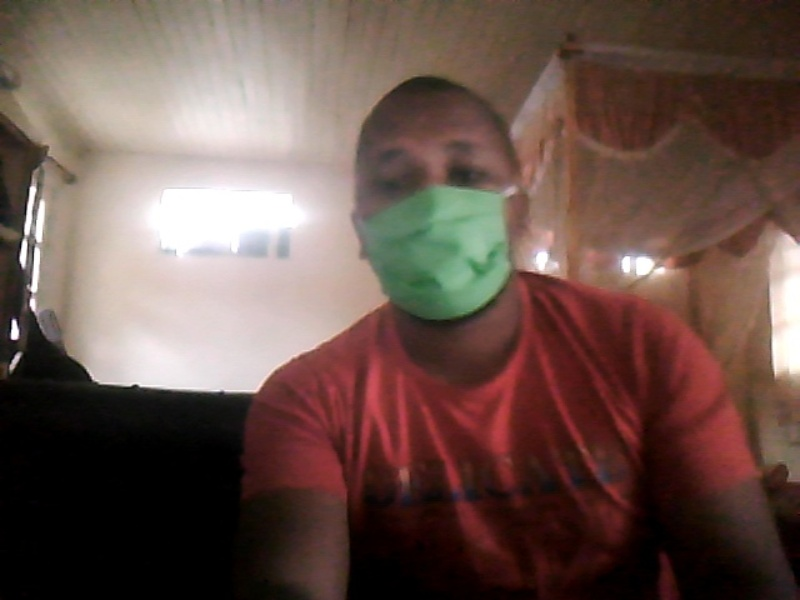ManaoArotava: (326, 73, 557, 348)
